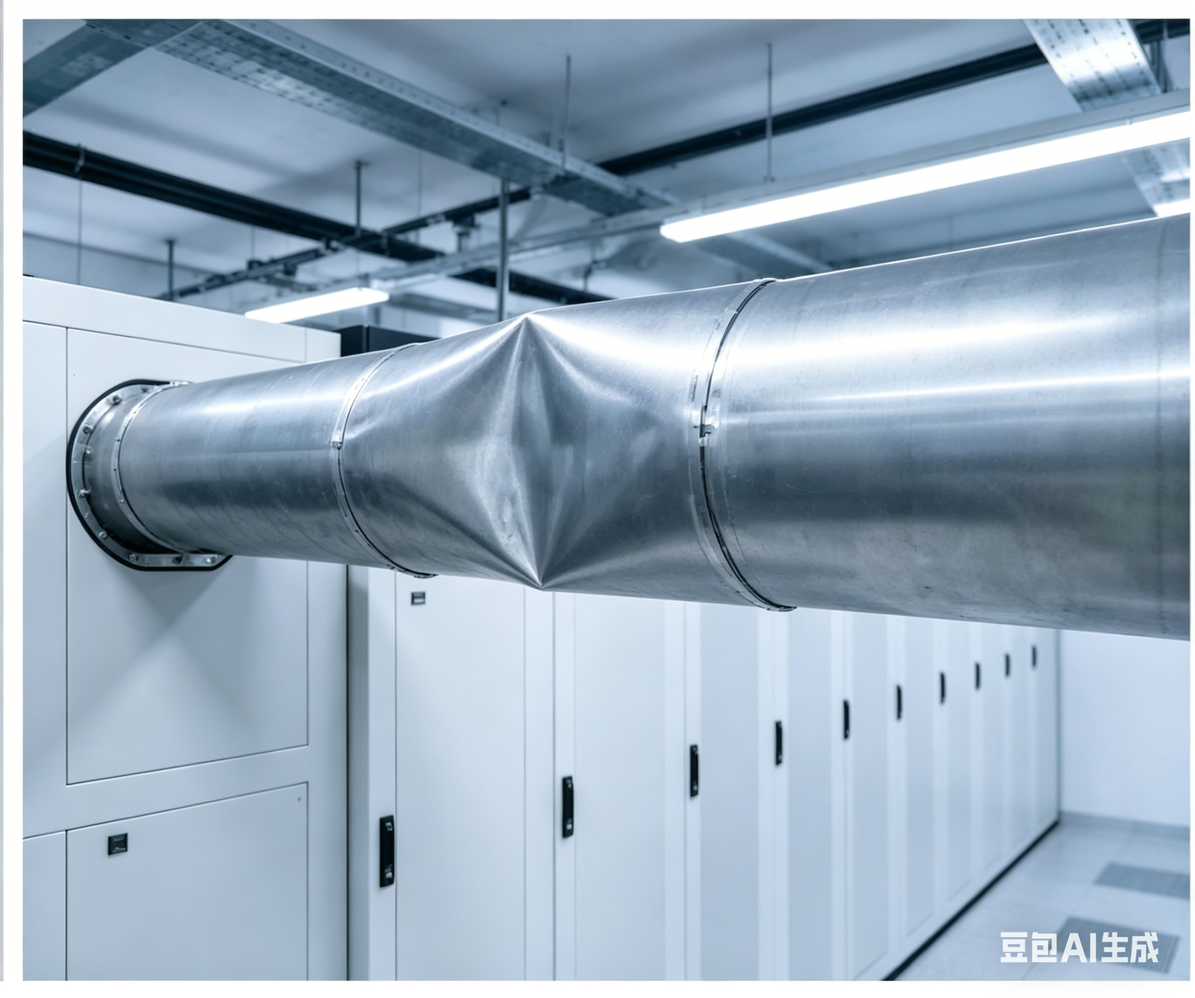Leakage: (416, 316, 639, 597)
